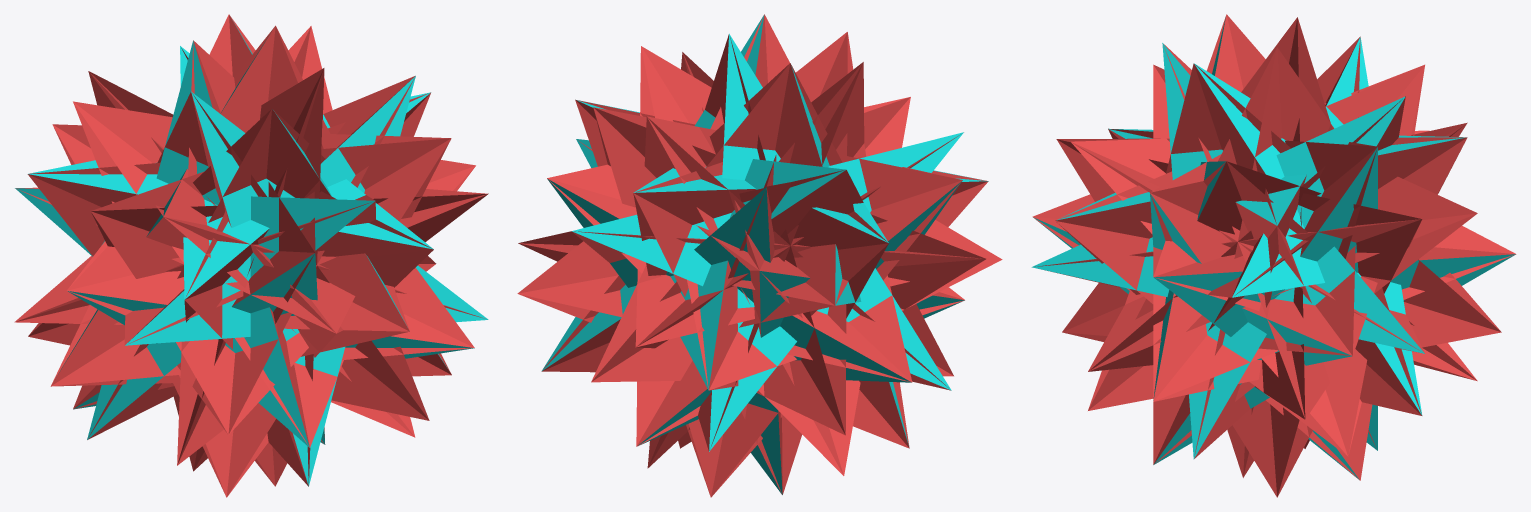
The model's file is great_retrosnub_icosidodecahedron.obj.
3 views of the same model, side by side, from view 1: azimuth 30°, elevation 25°; view 2: azimuth 150°, elevation 25°; view 3: azimuth 270°, elevation 25° (orthographic).
Visible parts, largest first — view 1: Shape_IndexedFaceSet; view 2: Shape_IndexedFaceSet; view 3: Shape_IndexedFaceSet.
Part boxes in pixels (left/top/right/bottom): Shape_IndexedFaceSet: left=14, top=14, right=488, bottom=497; Shape_IndexedFaceSet: left=517, top=14, right=1002, bottom=497; Shape_IndexedFaceSet: left=1031, top=14, right=1516, bottom=497.
Bounding box in the file's own units: 3.8 × 3.91 × 3.92.
